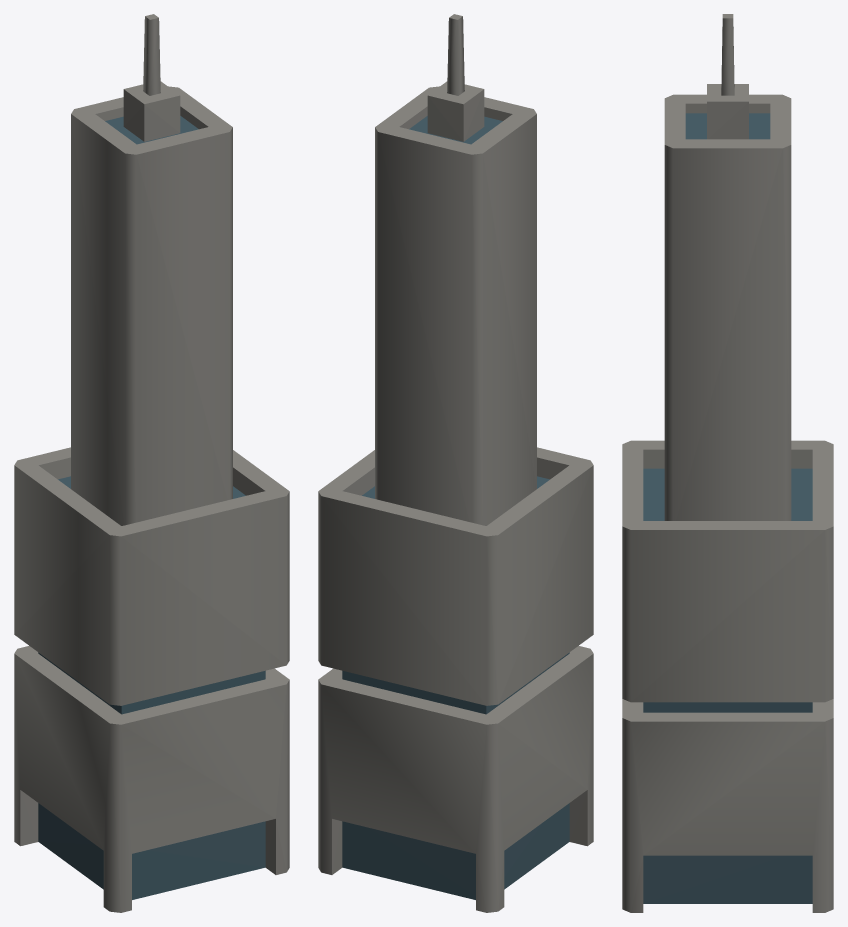
The model's file is block-b.high.8c8c18fa.glb.
3 views of the same model, side by side, from view 1: azimuth 30°, elevation 25°; view 2: azimuth 150°, elevation 25°; view 3: azimuth 270°, elevation 25° (orthographic).
Parts seen in each view (by area): view 1: block-b; view 2: block-b; view 3: block-b.
Boxes of the visible parts, x1,y1,x2,y2 form: block-b: (14, 14, 289, 912); block-b: (318, 14, 593, 912); block-b: (622, 14, 833, 912).
Size of the model in its own units: 6 by 26.7 by 6.
